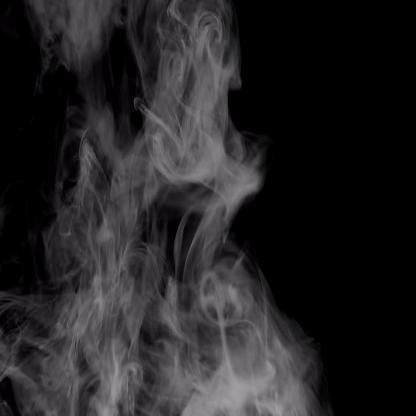smoke: (0, 0, 275, 415)
